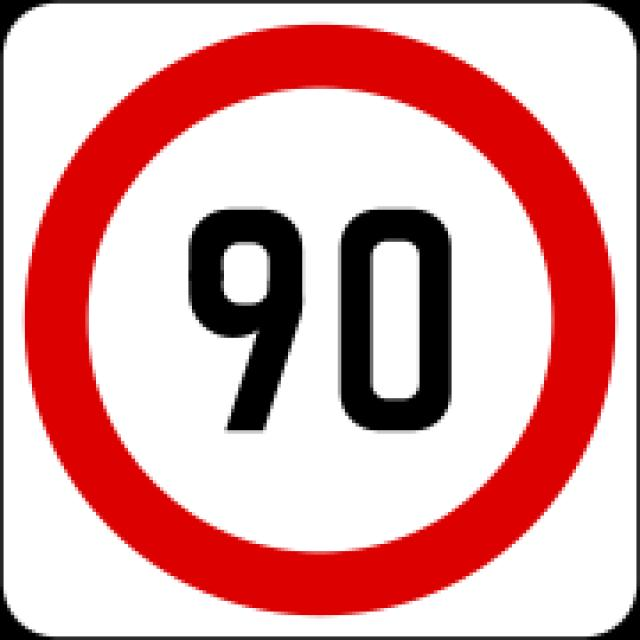Speed Limit -90-: (170, 188, 478, 444)
